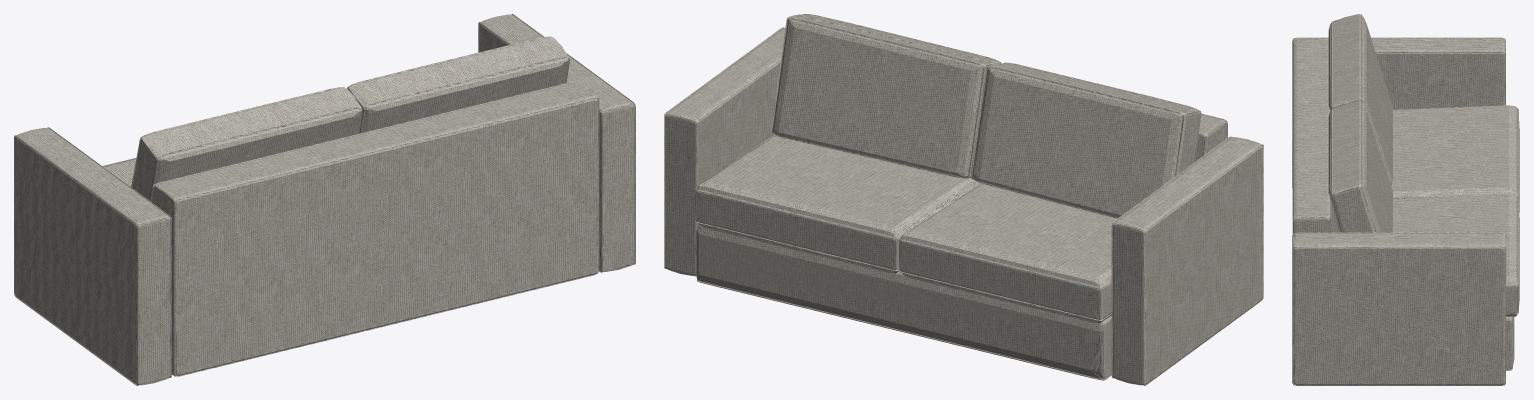
The model's file is divan.fbx.
3 views of the same model, side by side, from view 1: azimuth 30°, elevation 25°; view 2: azimuth 150°, elevation 25°; view 3: azimuth 270°, elevation 25° (orthographic). The views are drawn at different scales.
Visible parts, largest first — view 1: sofa; view 2: sofa; view 3: sofa.
Part boxes in pixels (x1,y1,x2,y2): sofa: [14, 14, 635, 385]; sofa: [664, 14, 1263, 385]; sofa: [1292, 14, 1519, 385].
Bounding box in the file's own units: 207 × 84.89 × 95.11.
